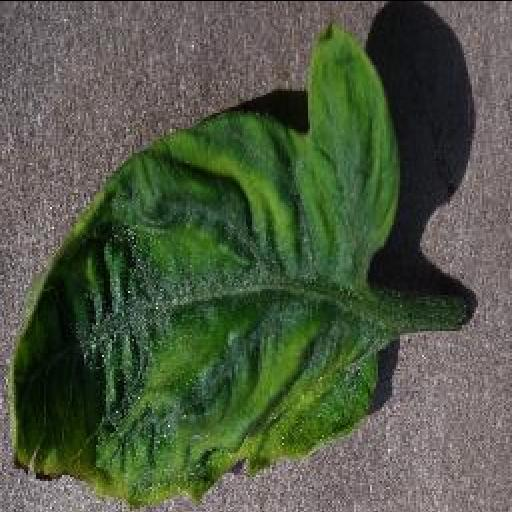disease_tomato: (8, 20, 402, 508)
